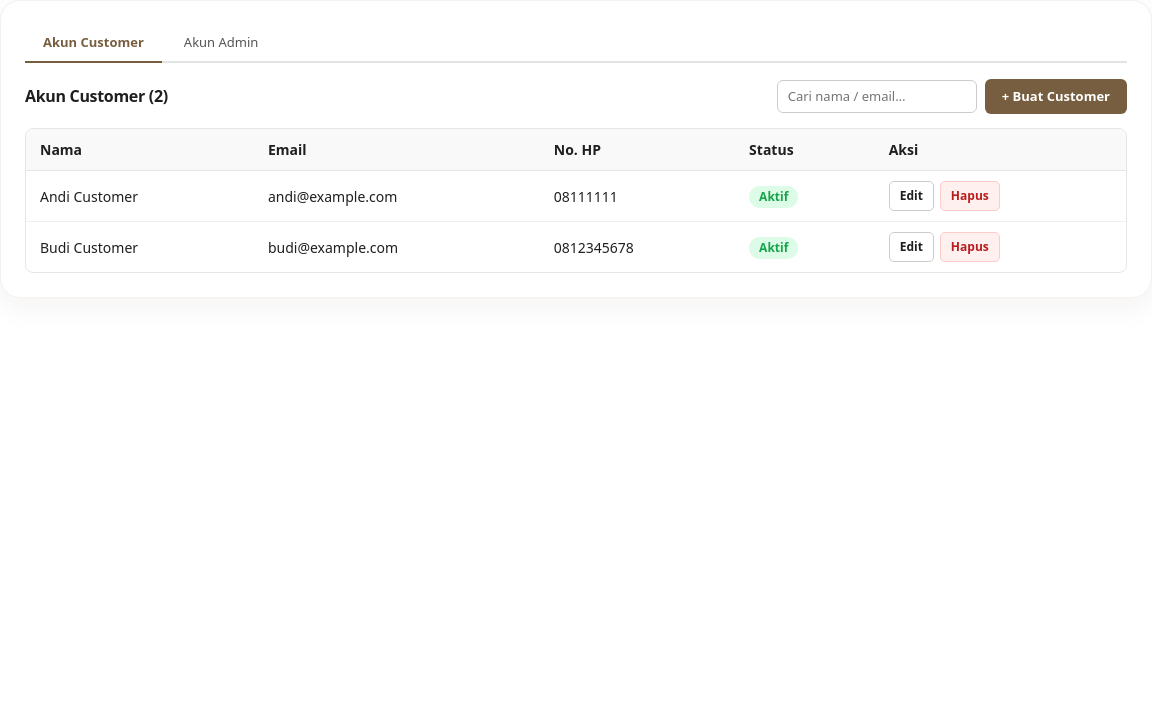
Test case: AccountsSection — add customer account › opens the customer form, validates, and submits to the endpoint
Expected: the text "Andi Customer" is shown, [26,170,254,222]
Click the button with aria-label "Buat akun customer baru" at (1056, 96), box [985,78,1127,114]
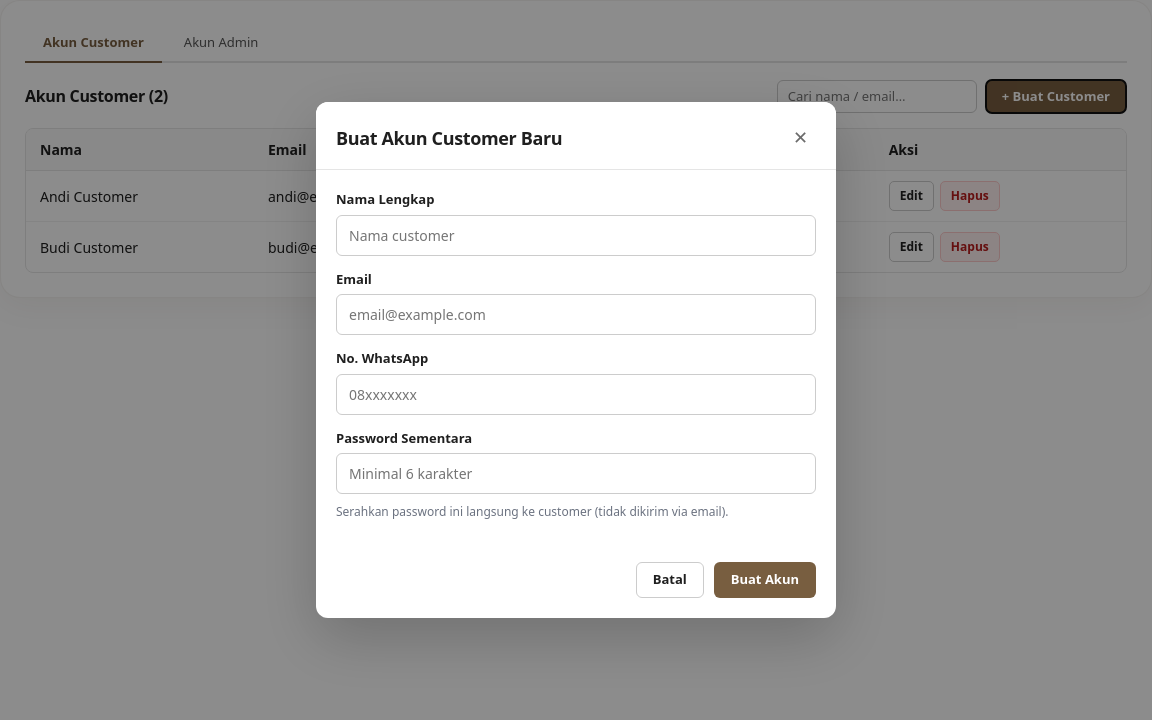
Type "Cust Baru" into the field labelled "Nama Lengkap" at (576, 236), box [336,215,816,256]
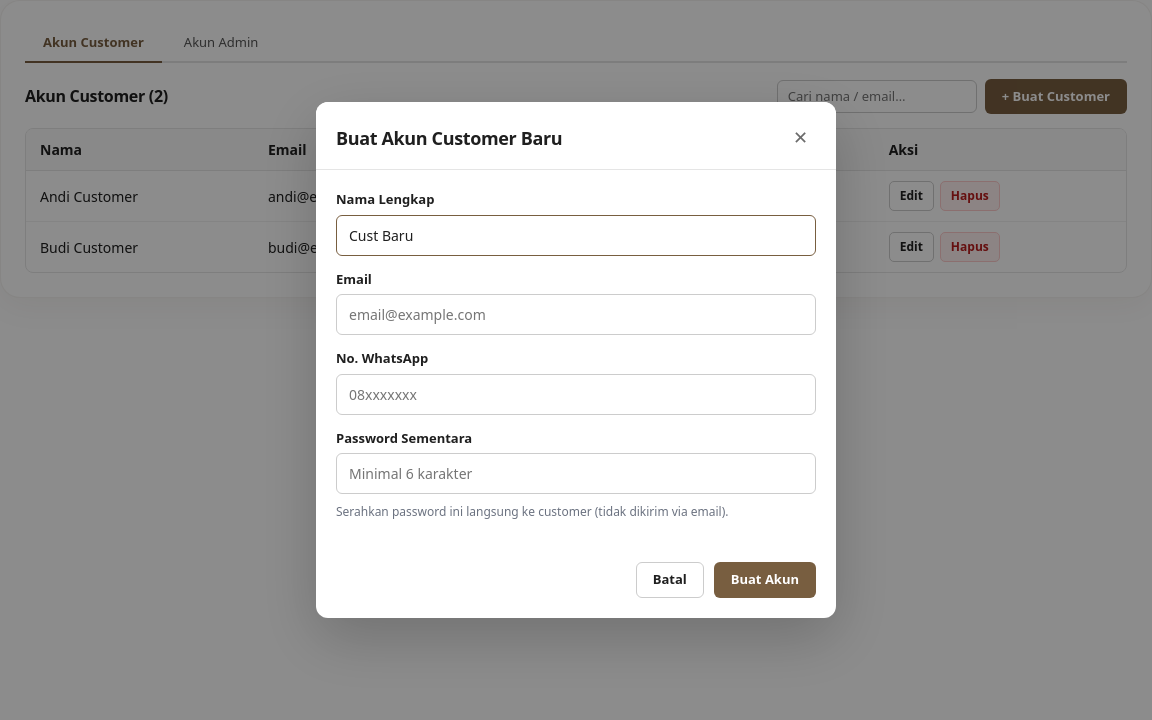
Type "cust@example.com" into the field labelled "Email" at (576, 315), box [336,294,816,336]
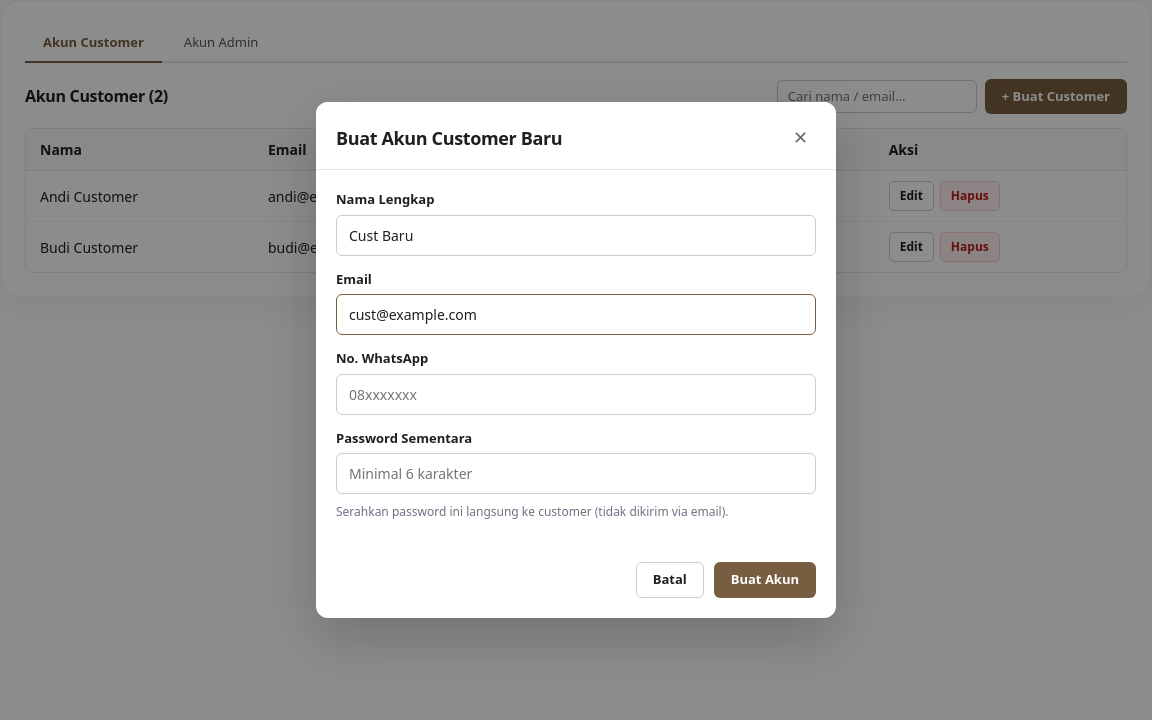
Type "081234" into the field labelled "No. WhatsApp" at (576, 394), box [336,374,816,415]
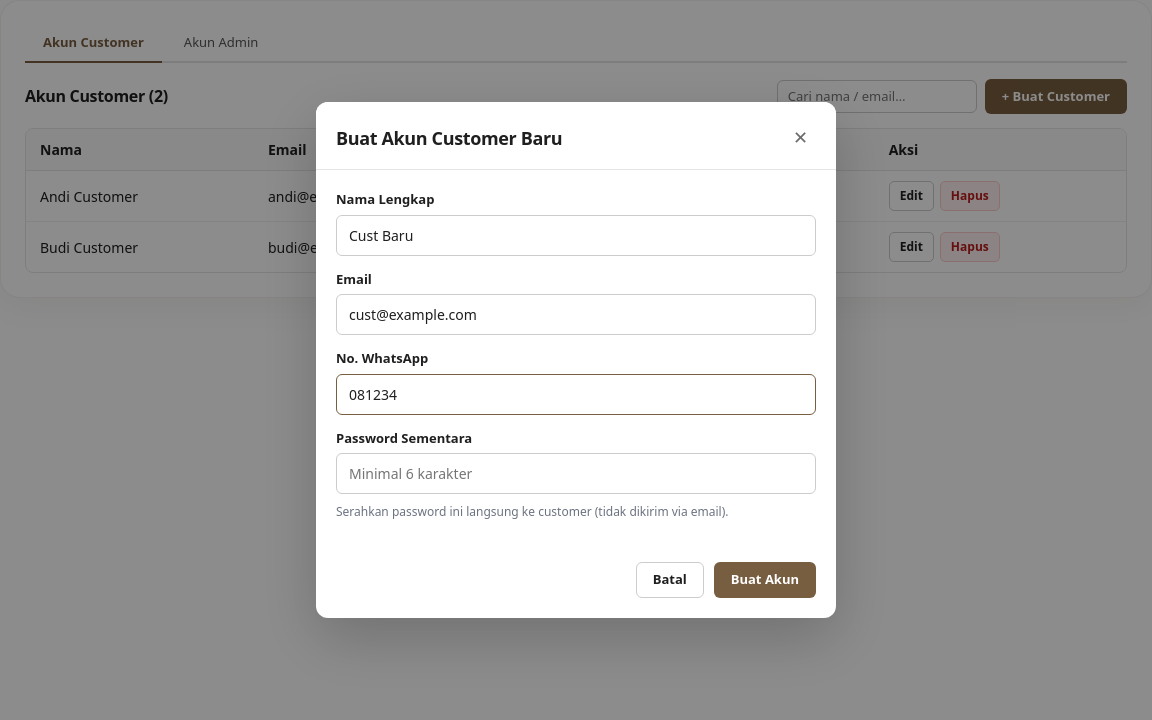
Type "rahasia123" into the password field labelled "Password Sementara" at (576, 474), box [336,454,816,494]
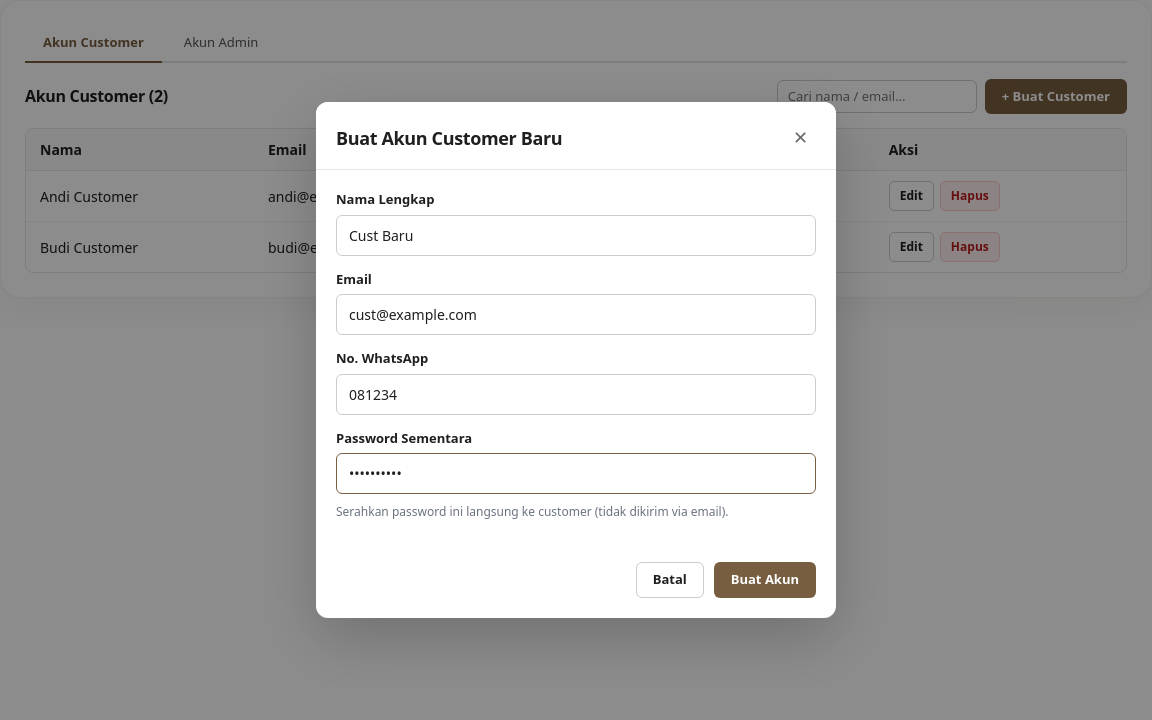
Click the button "Buat Akun" at (765, 580), box [714,562,816,598]
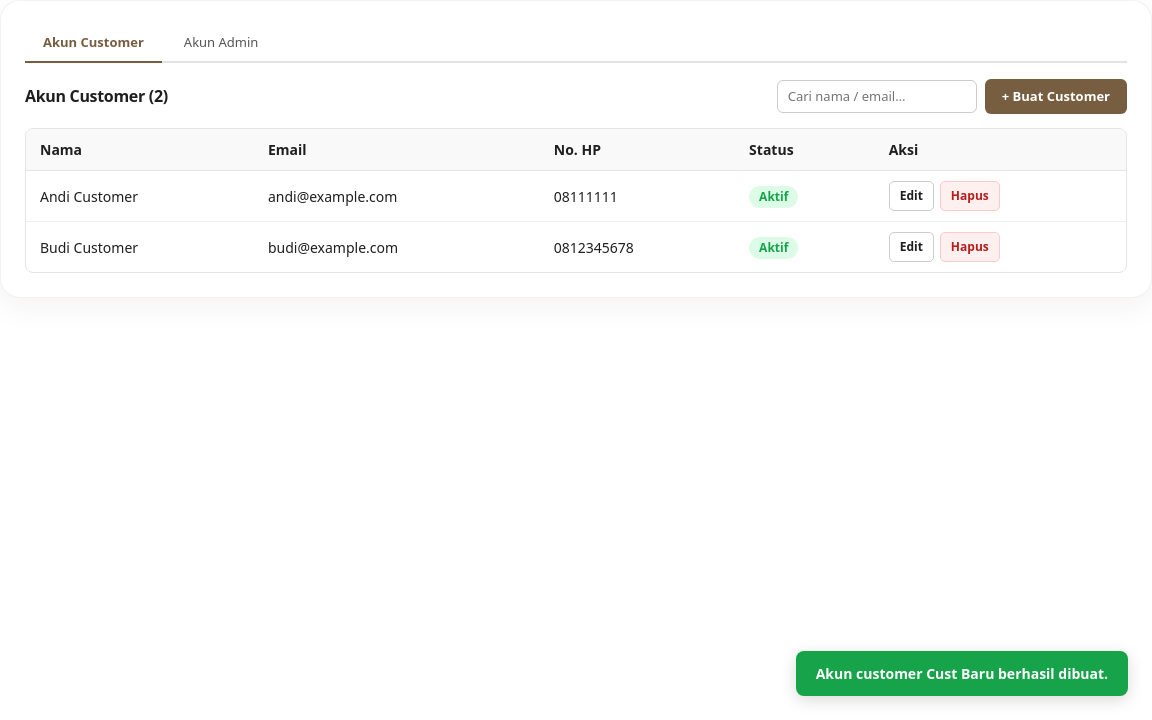
Now the heading "Buat Akun Customer Baru" is gone
